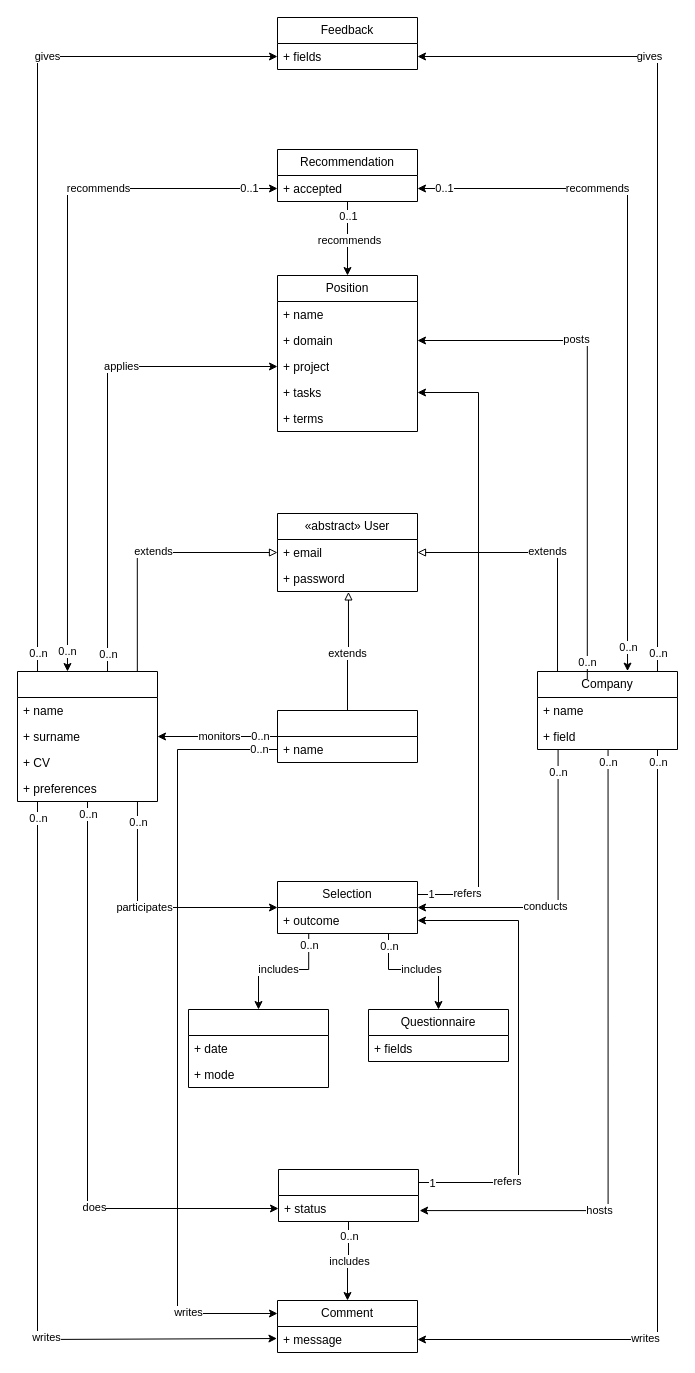
Some shapes in this 695 by 1373 pixel diagram are drawn without their labels. Here are the shapes that lost their labels. From the top down, the box of each, then its label:
(16, 670, 158, 802): Student
(276, 710, 418, 762): University
(188, 1008, 328, 1088): Interview
(278, 1168, 418, 1222): Internship
